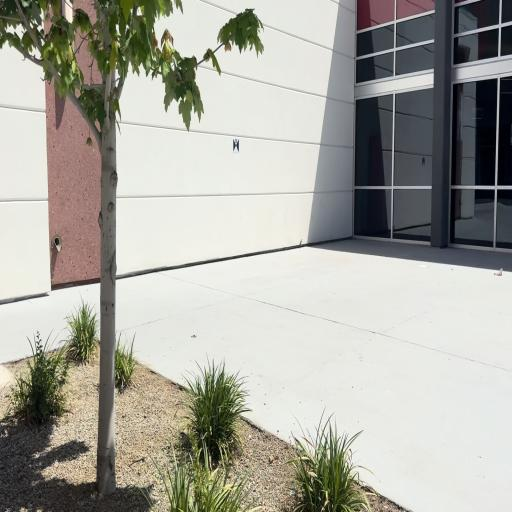target0: (233, 137, 239, 153)
